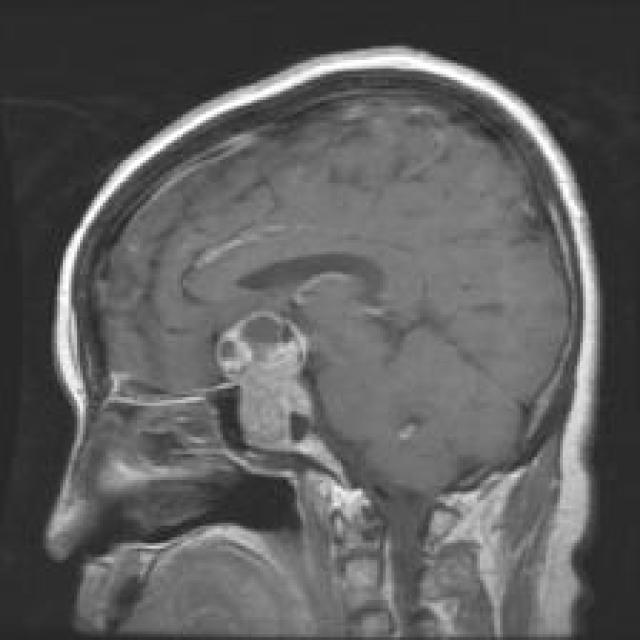pituitary_tumor: (201, 294, 336, 480)
